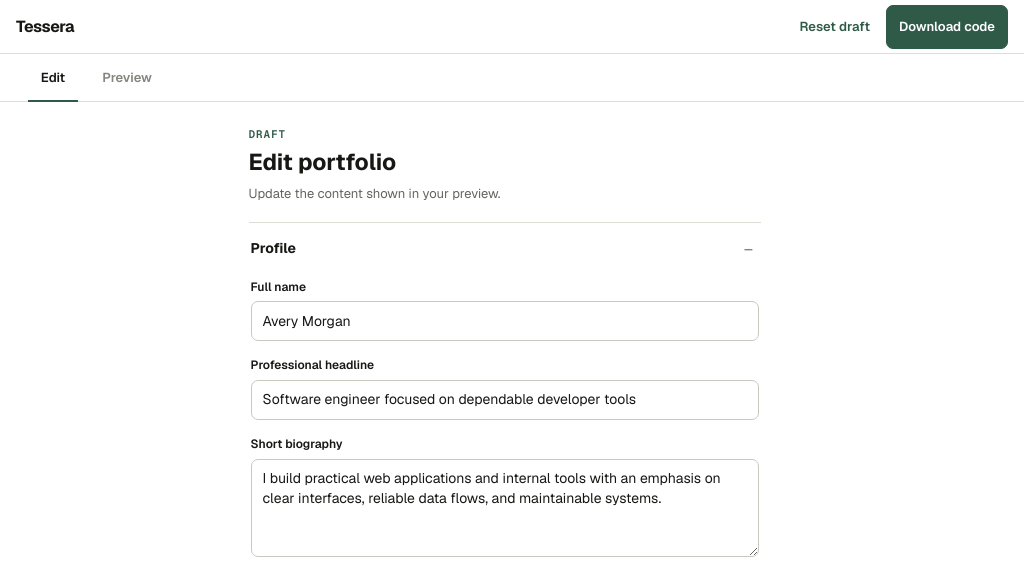
Test case: Tessera portfolio builder › restores the exact fixture without rewriting disclosure preferences
Click the button "Profile −" at (273, 248), box 248,223 -> 760,275
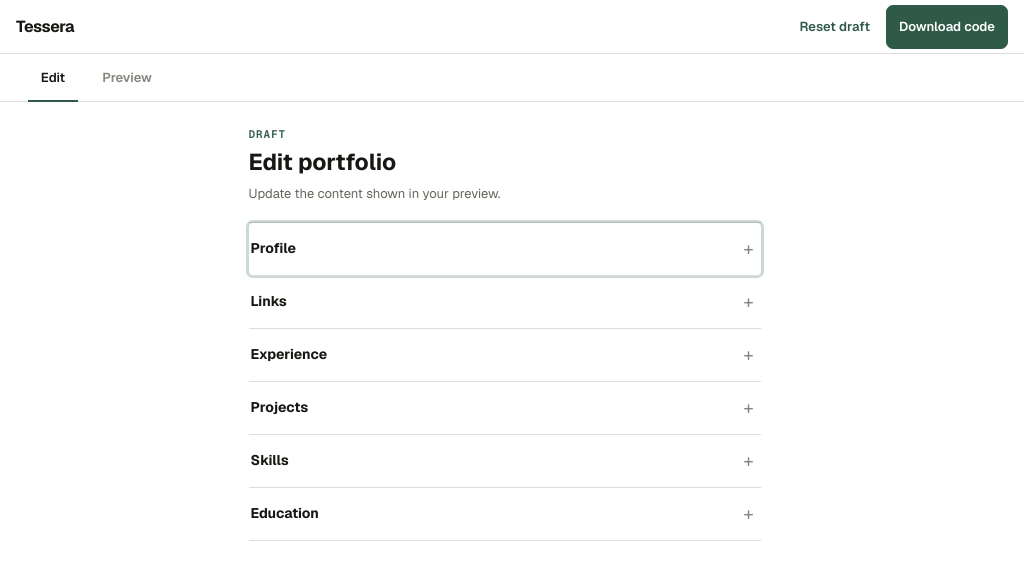
Click the button "Links +" at (269, 301), box 248,276 -> 760,328
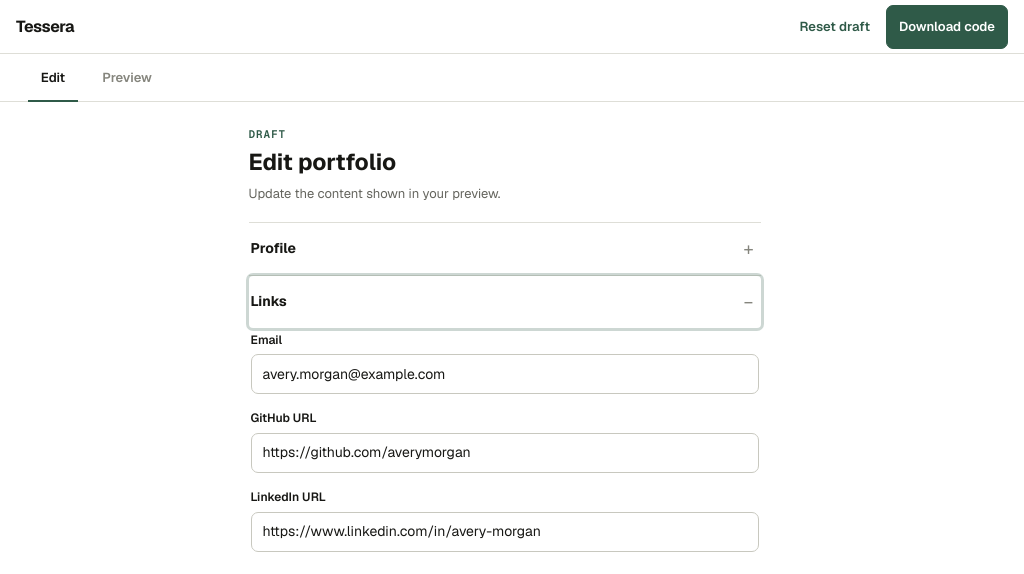
Replace the text in the field labelled "Email" with "invalid" at (504, 374), box 250,354 -> 758,394
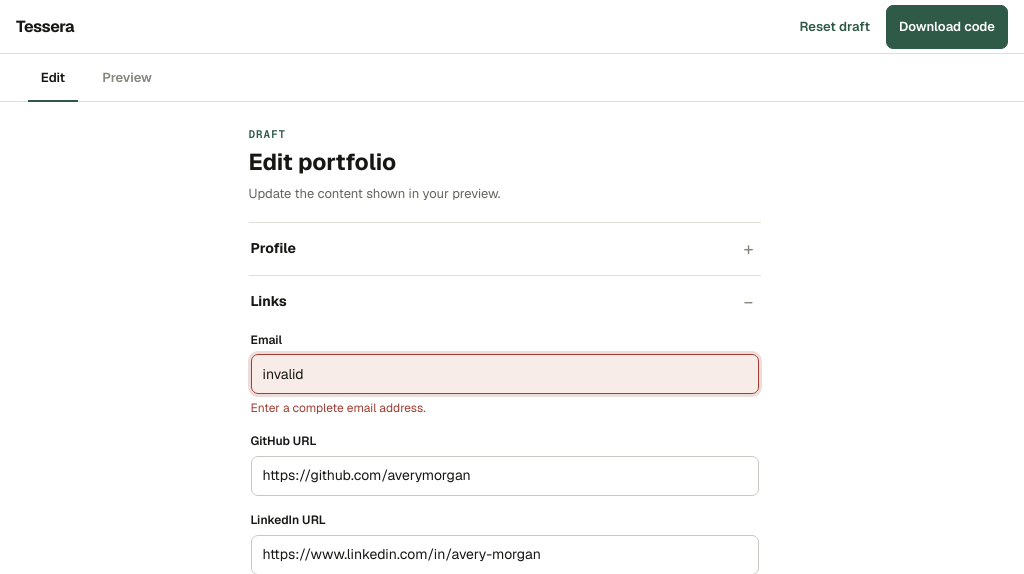
Click the button "Reset draft" at (835, 26), box 790,4 -> 880,48
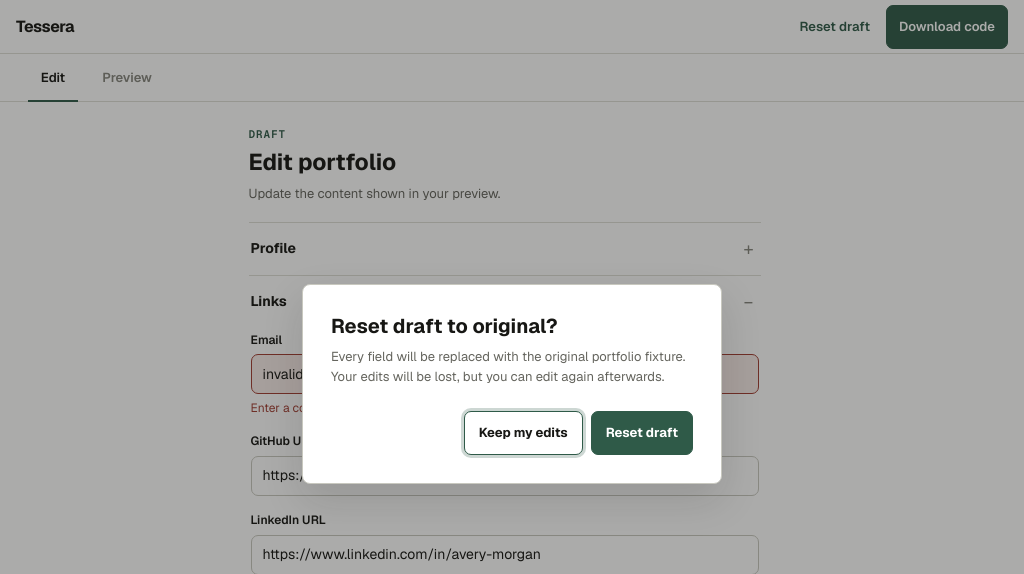
Now the dialog "Reset draft to original?" is shown, box 302,284 -> 722,484
Click the button "Reset draft" at (642, 433), box 591,411 -> 693,455
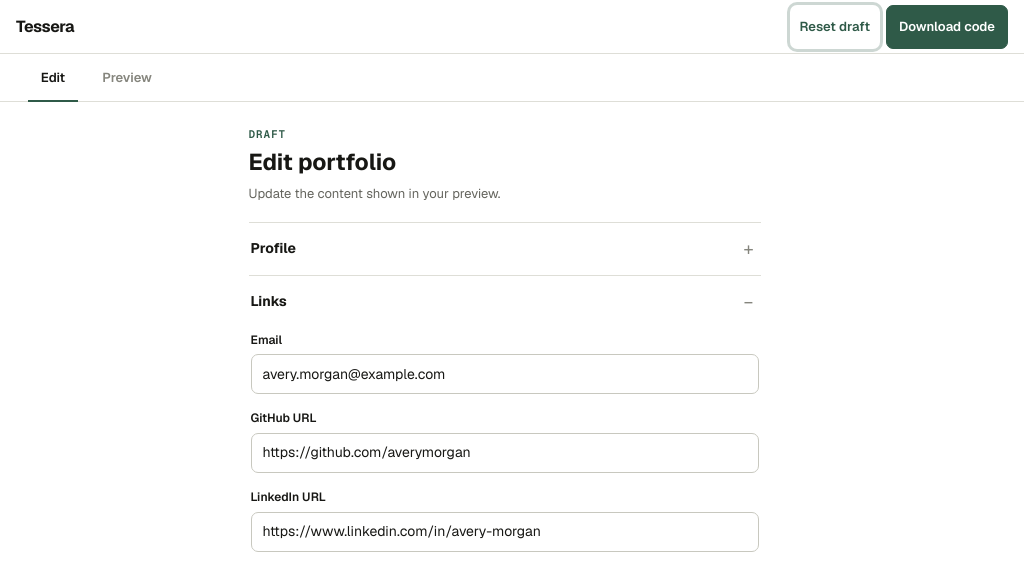
Expected: the element named "Full name" holds "Avery Morgan", 248,222 -> 760,275
Now the field labelled "Email" holds "avery.morgan@example.com", box 250,354 -> 758,394
Now the text "Enter a complete email address." is gone
